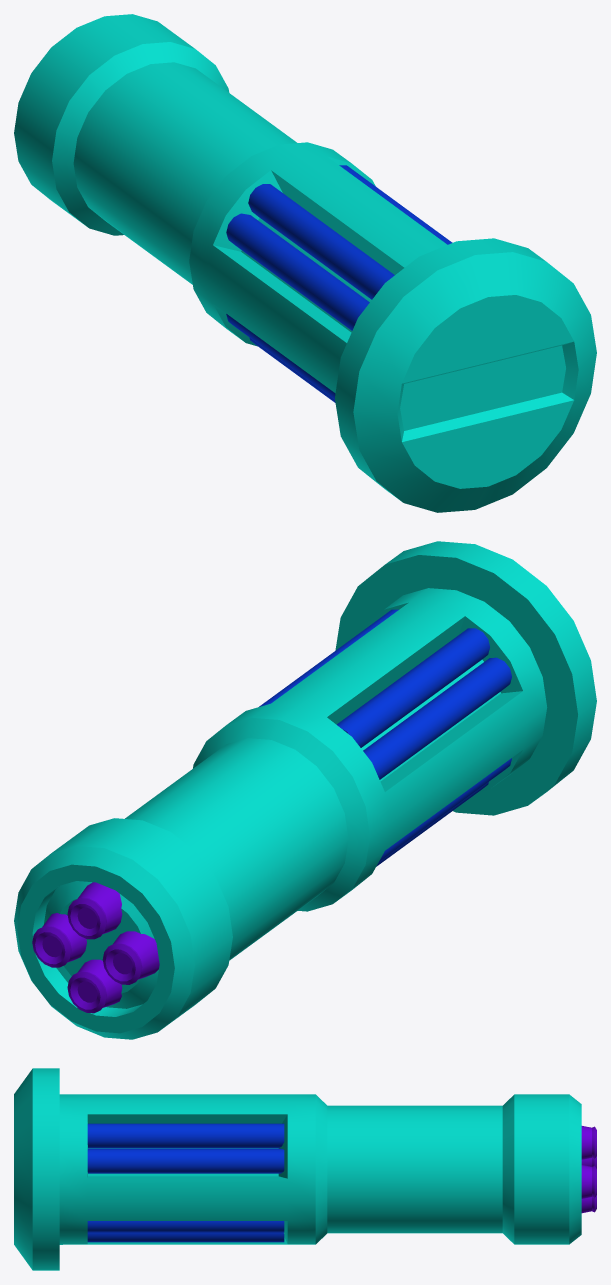
The model's file is fuel_rod.glb.
3 views of the same model, one above another, from view 1: azimuth 30°, elevation 25°; view 2: azimuth 150°, elevation 25°; view 3: azimuth 270°, elevation 25° (orthographic). The views are drawn at different scales.
Visible parts, largest first — view 1: Cylinder.013, Cylinder.018; view 2: Cylinder.013, Cylinder.018, Cylinder.015; view 3: Cylinder.013, Cylinder.018, Cylinder.015.
Boxes of the visible parts, x1,y1,x2,y2 form: Cylinder.013: [14, 14, 596, 512]; Cylinder.018: [226, 165, 452, 402]; Cylinder.013: [14, 541, 596, 1039]; Cylinder.018: [259, 609, 511, 866]; Cylinder.015: [32, 882, 159, 1013]; Cylinder.013: [14, 1068, 581, 1270]; Cylinder.018: [87, 1123, 284, 1242]; Cylinder.015: [581, 1126, 596, 1213].
Bounding box in the file's own units: 0.6389 × 0.6386 × 1.83.
